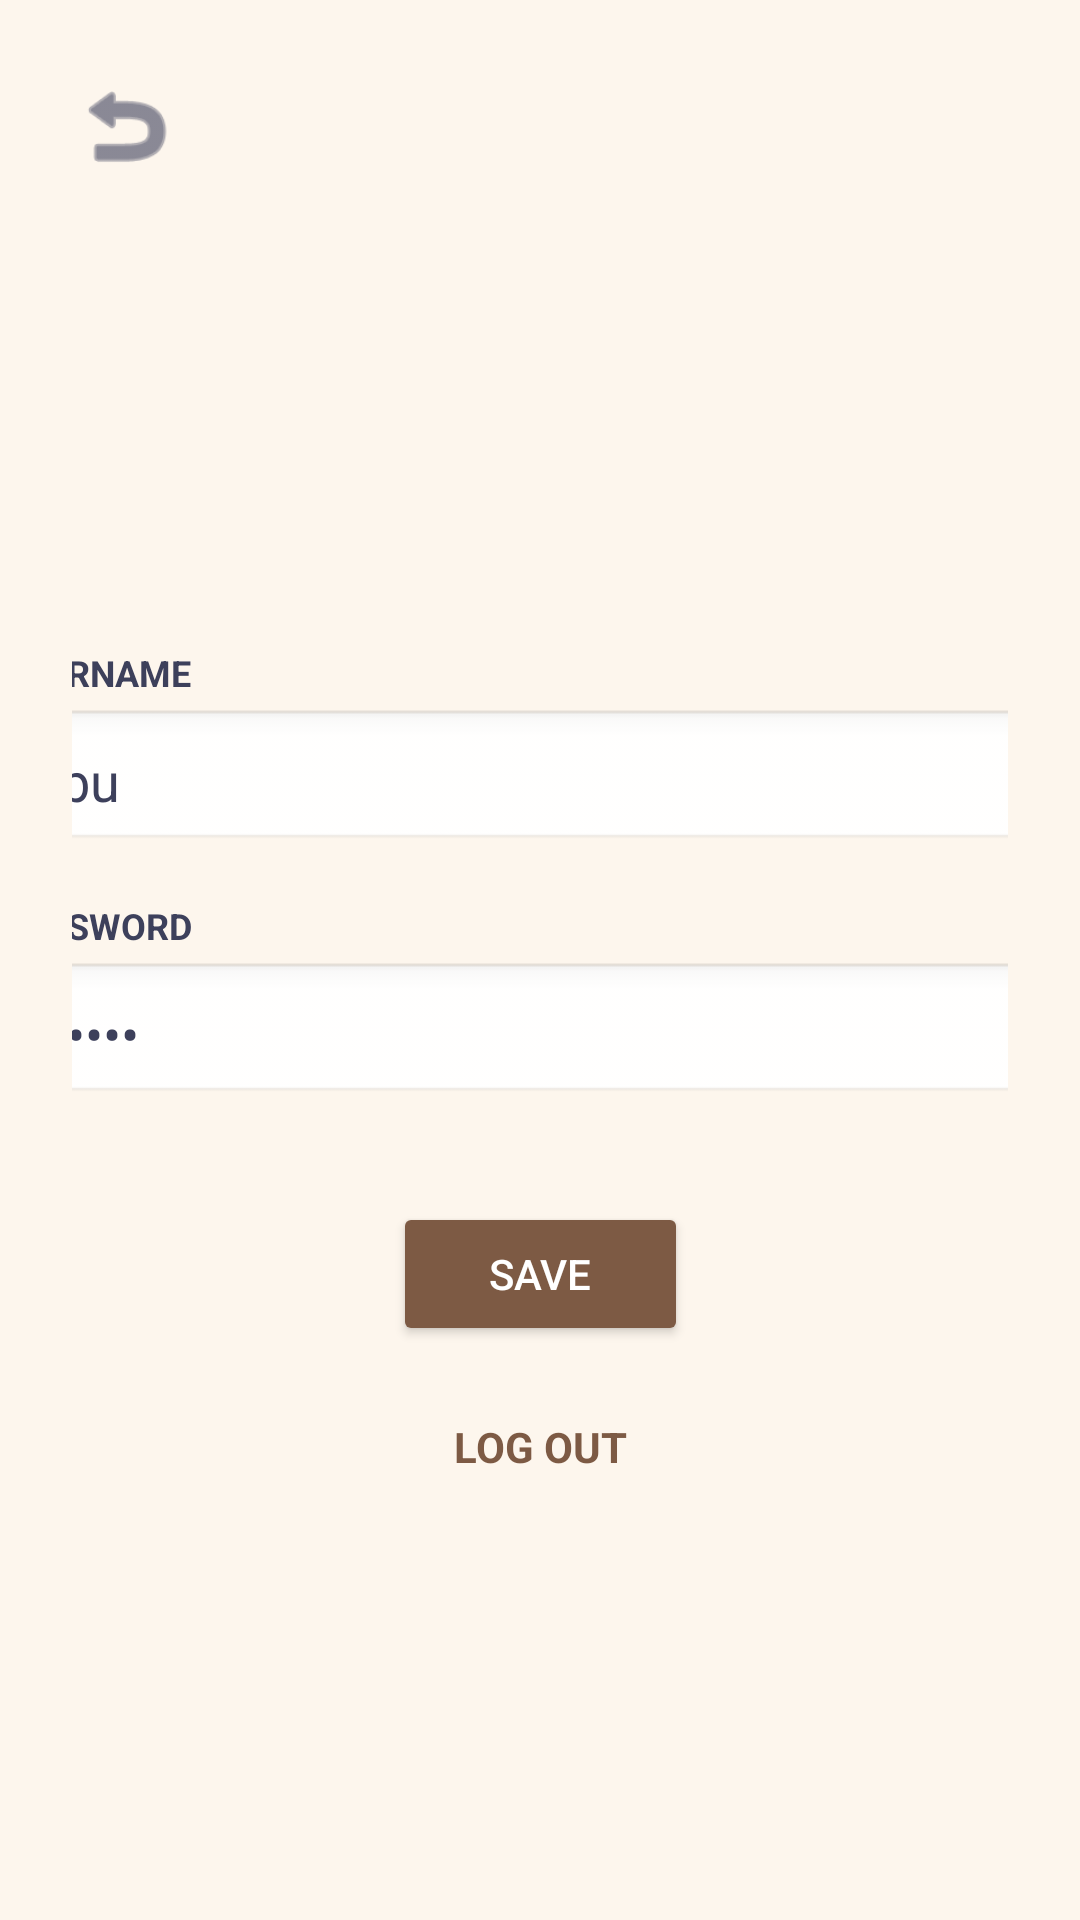

Screen size 1080px x 1920px. Icon name, then its center in pixels as (x,y):
Go Back: (127,127)
